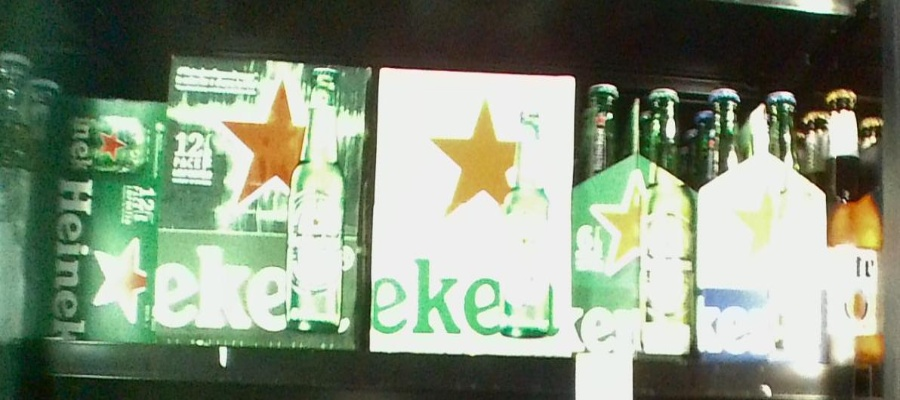bottle: (168, 59, 368, 351), (377, 66, 573, 353), (695, 85, 831, 357), (573, 80, 694, 354), (42, 94, 159, 340), (830, 90, 880, 356)
